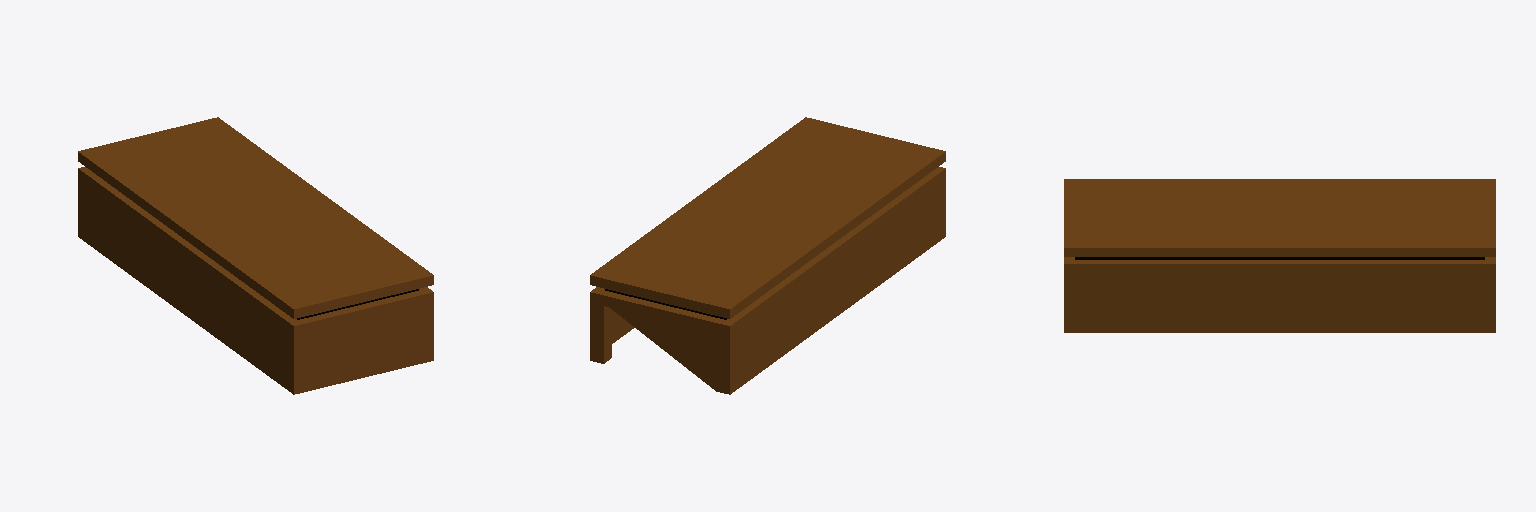
File: tableH.obj
3 views of the same model, side by side, from view 1: azimuth 30°, elevation 25°; view 2: azimuth 150°, elevation 25°; view 3: azimuth 270°, elevation 25° (orthographic).
Visible parts, largest first — view 1: tableUp_Cube, tableUp.001_Cube.004; view 2: tableUp_Cube, tableUp.001_Cube.004; view 3: tableUp_Cube, tableUp.001_Cube.004, tableUp.002_Cube.007.
Part boxes in pixels (left/top/right/bottom): tableUp_Cube: left=78, top=117, right=433, bottom=318; tableUp.001_Cube.004: left=78, top=167, right=433, bottom=394; tableUp_Cube: left=590, top=117, right=945, bottom=318; tableUp.001_Cube.004: left=590, top=167, right=945, bottom=394; tableUp_Cube: left=1064, top=179, right=1495, bottom=256; tableUp.001_Cube.004: left=1064, top=257, right=1495, bottom=332; tableUp.002_Cube.007: left=1075, top=257, right=1484, bottom=259.
Size of the model in its own units: 3 by 1.74 by 8.